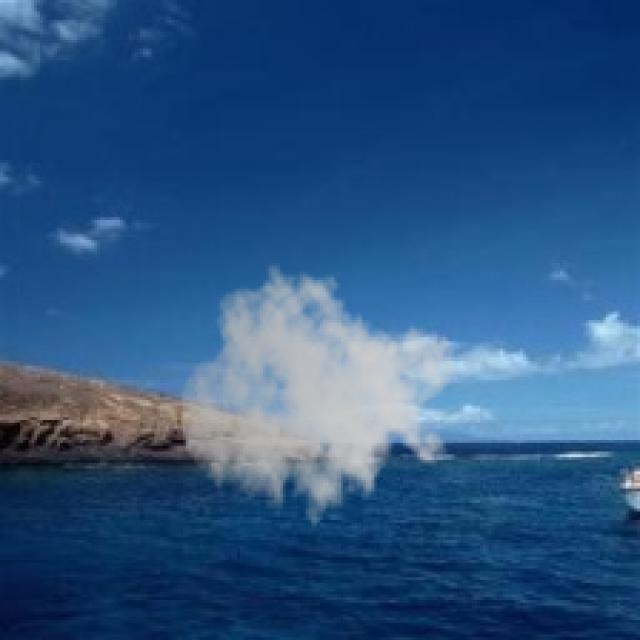smoke: (177, 263, 457, 543)
